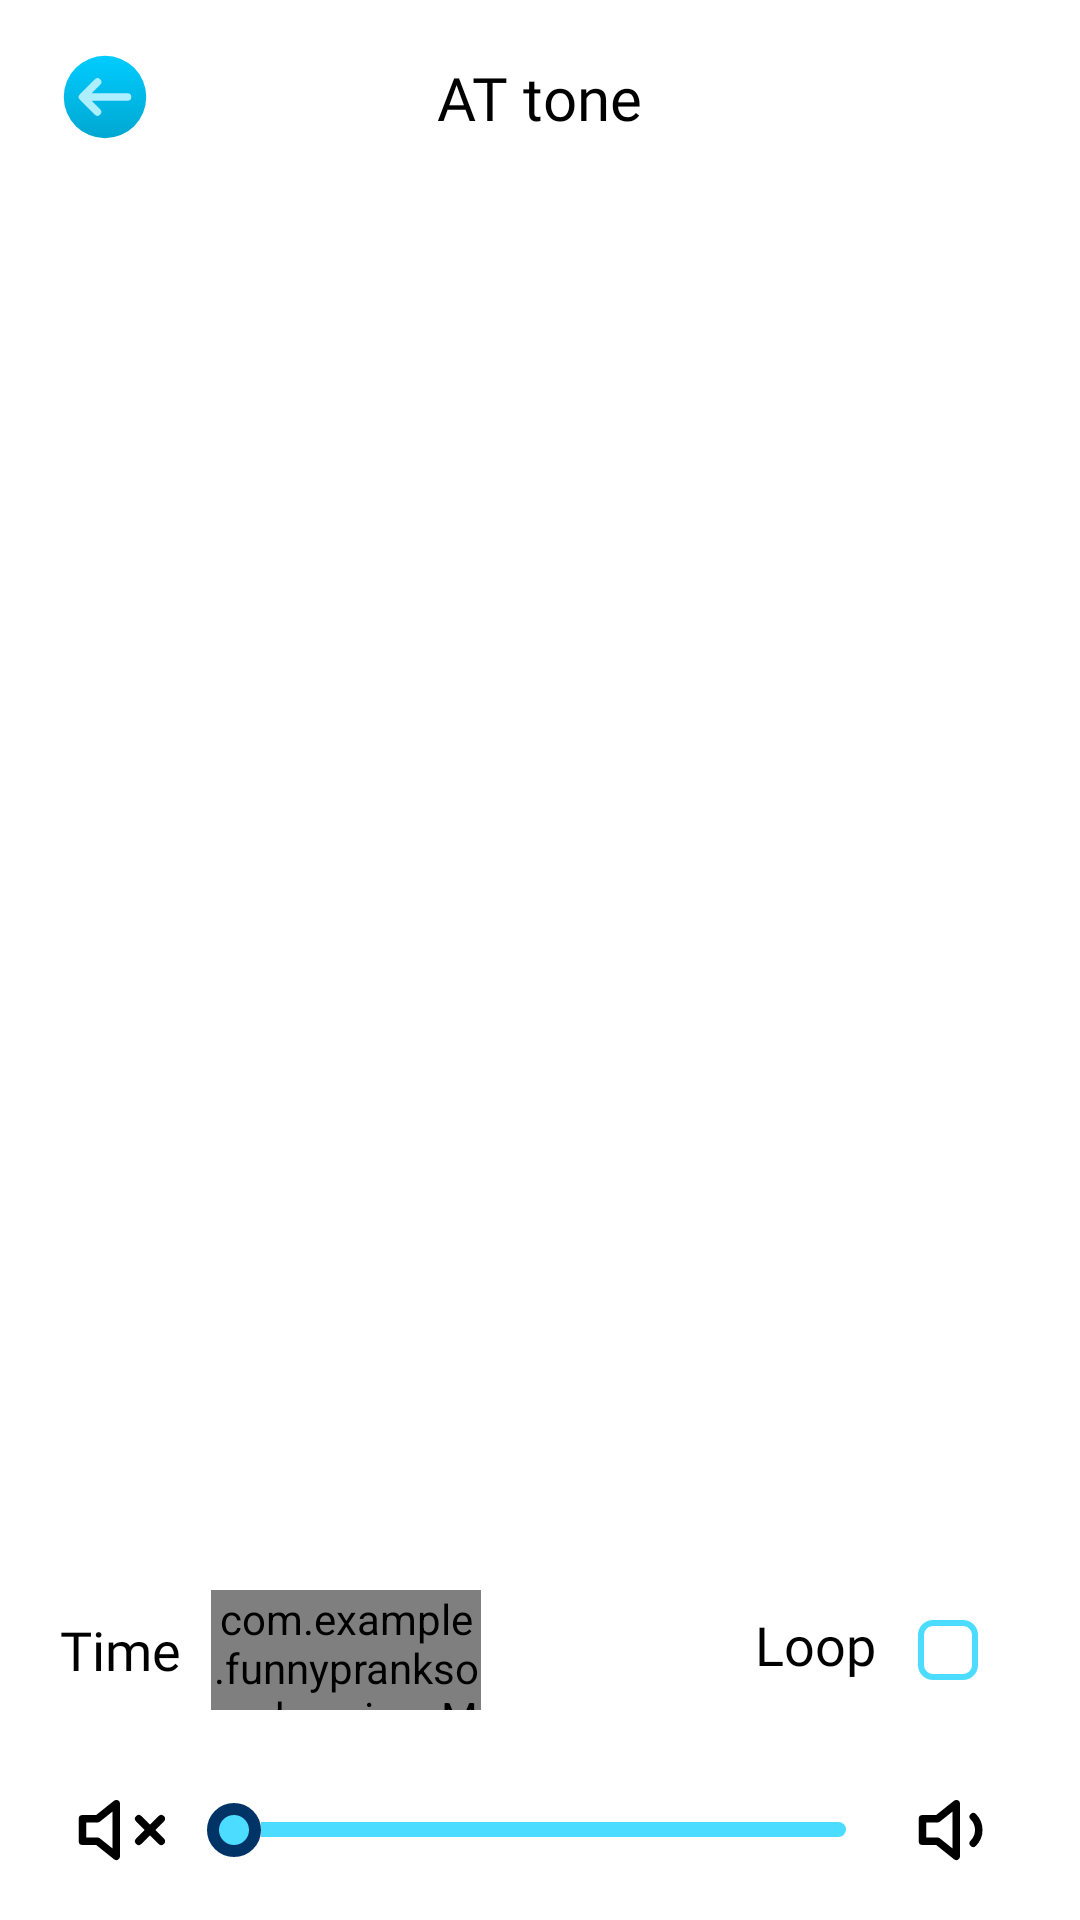

Named icons in this screenshot (1080*1920) and their bounding boxes, BBox(x1, y1, x2, y2):
back arrow: BBox(63, 55, 147, 139)
checkbox state: BBox(918, 1620, 978, 1680)
vol cancel: BBox(78, 1800, 165, 1861)
vol plus: BBox(918, 1800, 983, 1861)
